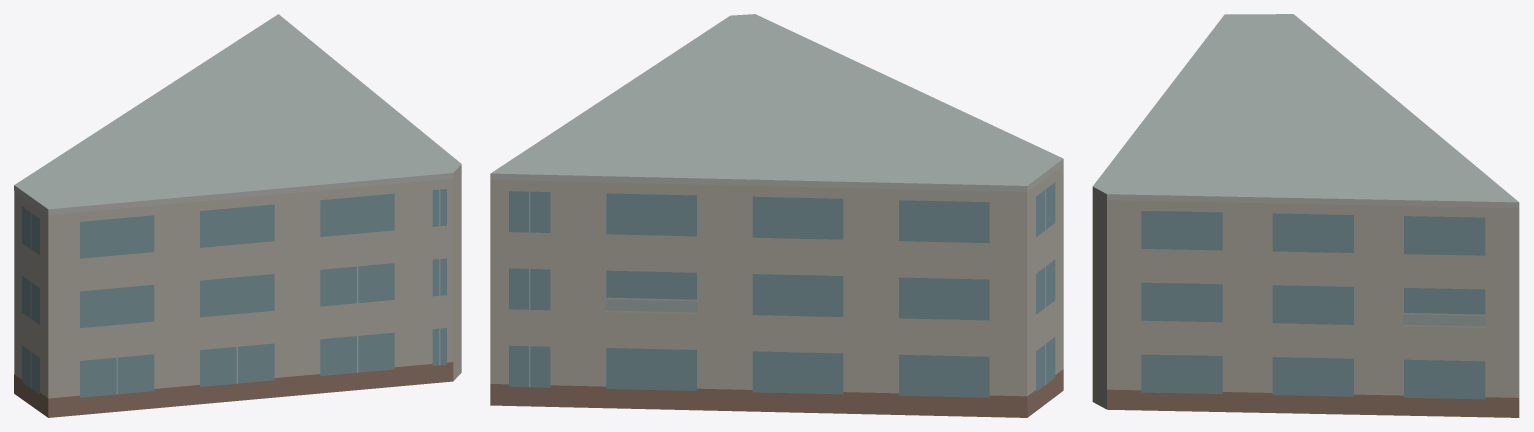
Rendered from survey-upis-33021922.glb.
The picture shows the model from 3 angles, left to right: view 1: azimuth 30°, elevation 25°; view 2: azimuth 150°, elevation 25°; view 3: azimuth 270°, elevation 25°; orthographic projection. The views are drawn at different scales.
Visible parts, largest first — view 1: survey-upis-33021922.tmp; view 2: survey-upis-33021922.tmp; view 3: survey-upis-33021922.tmp.
Part boxes in pixels (x1=…): survey-upis-33021922.tmp: x1=14, y1=14, x2=461, y2=417; survey-upis-33021922.tmp: x1=490, y1=14, x2=1063, y2=417; survey-upis-33021922.tmp: x1=1092, y1=14, x2=1519, y2=417.
Bounding box in the file's own units: 17.16 × 9.15 × 16.44.
